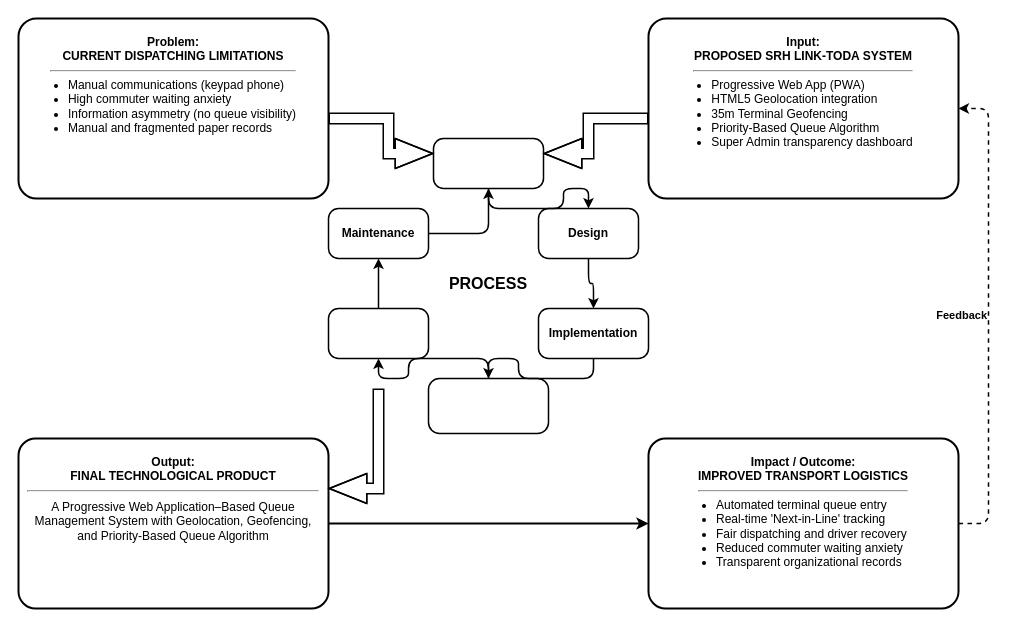
Some shapes in this 1014 by 626 pixel diagram are drawn without their labels. The centre of each missing label's shape, as x and y in pixels:
Deployment: point (378, 333)
Requirement Analysis: point (488, 163)
Testing (ISO 25010 & WCAG): point (488, 405)
